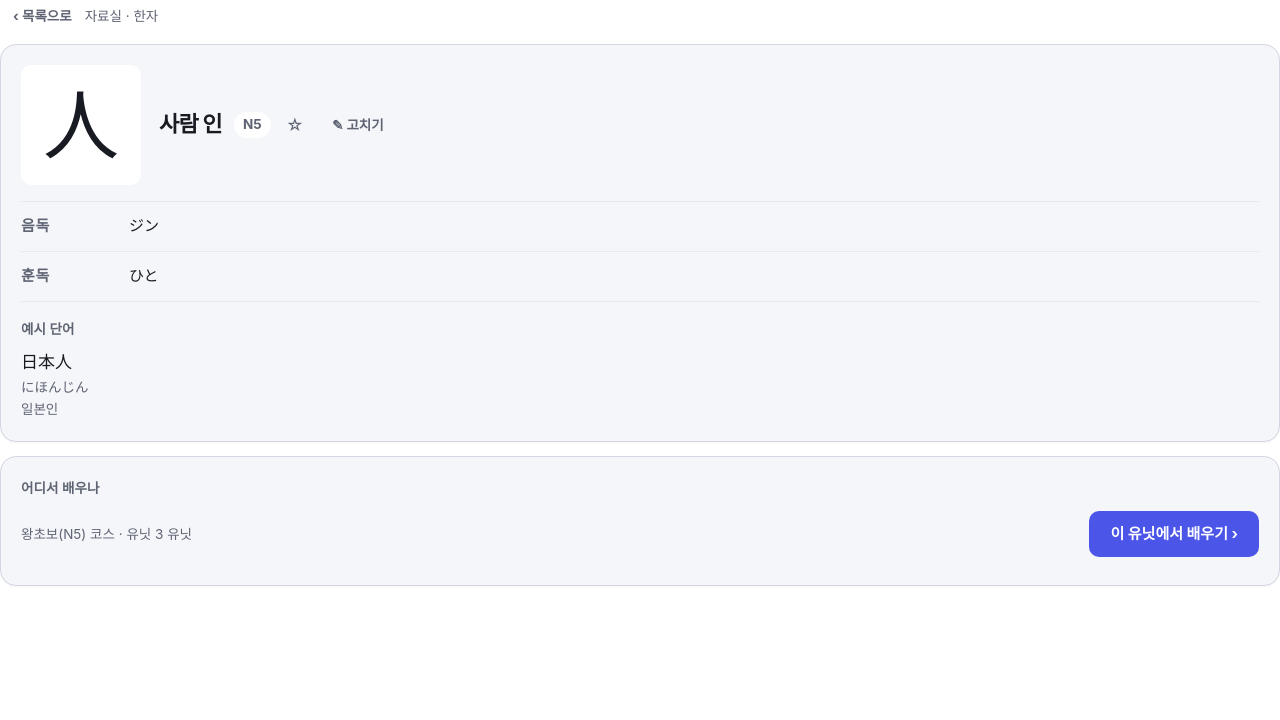
Test case: 자료실 한자 상세 배선 (A1·A9) › 켜져 있으면 [고치기]가 있고, 저장하면 화면 값이 응답으로 갱신된다
Click the button "✎ 고치기": (358, 125) [319,109,397,141]
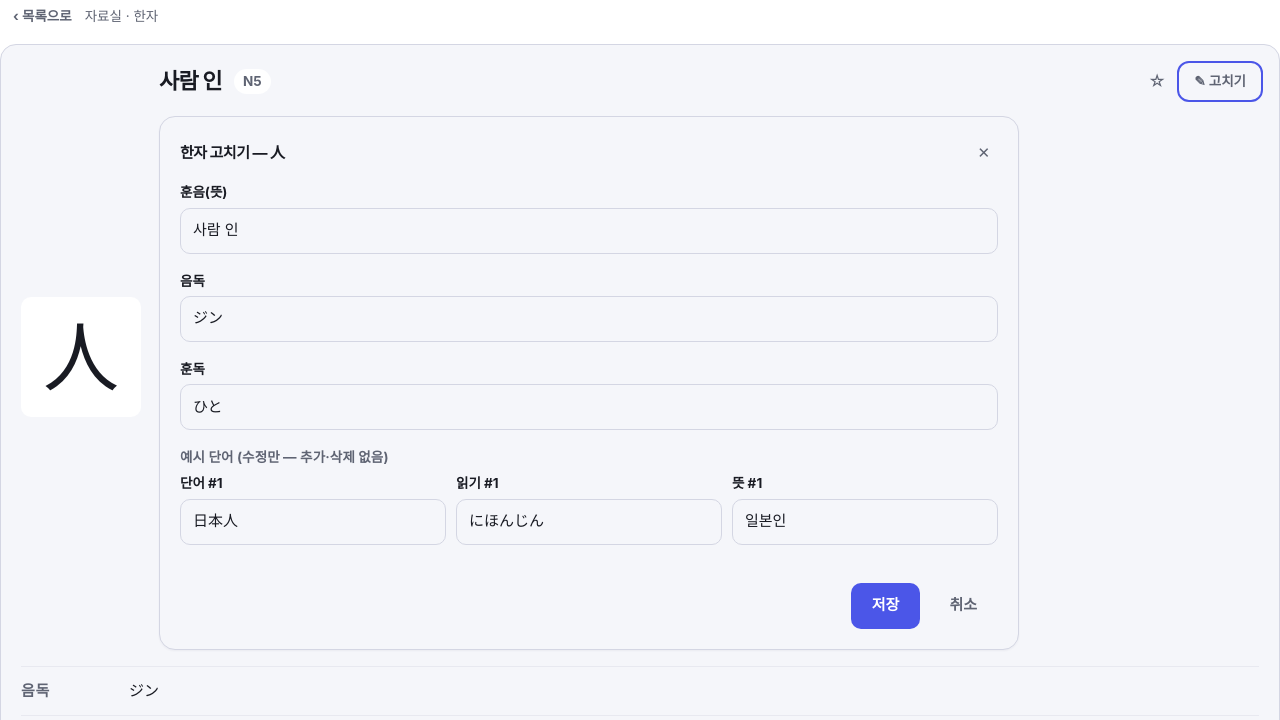
Replace the text in the field labelled "훈음(뜻)" with "사람 인2": (589, 230) [180,208,998,254]
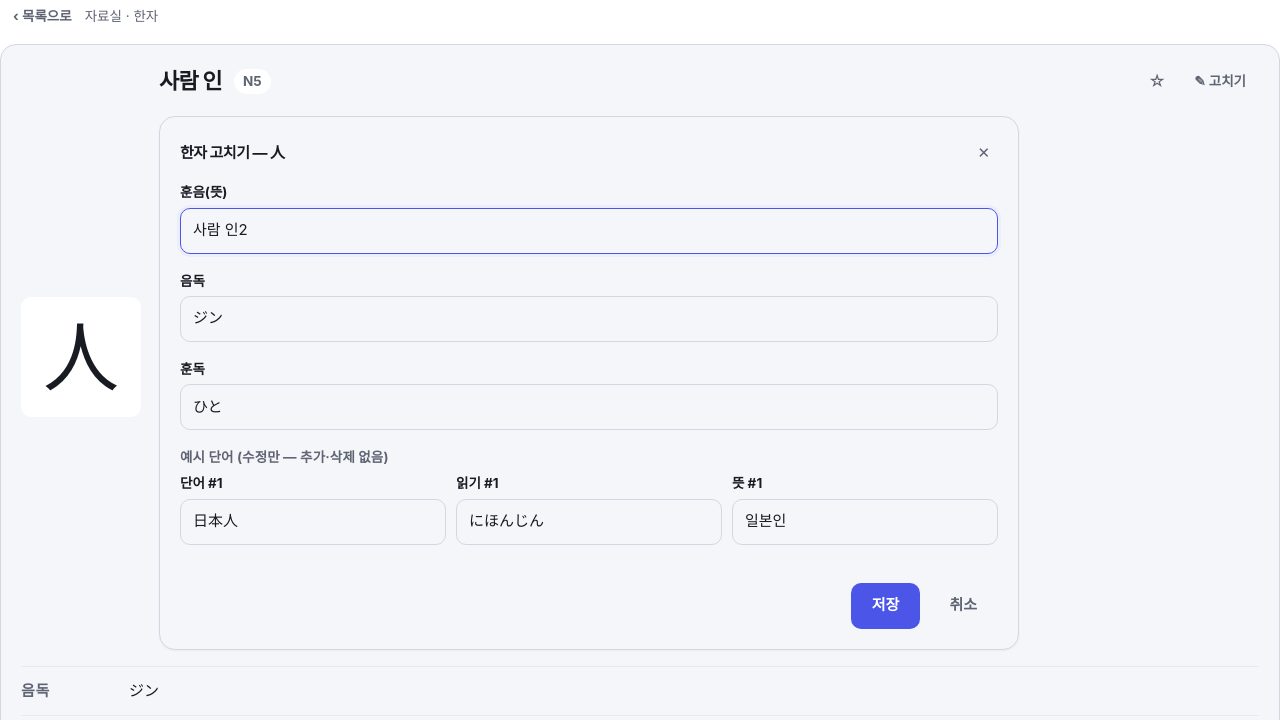
Click the button "저장": (886, 606) [851,583,920,629]
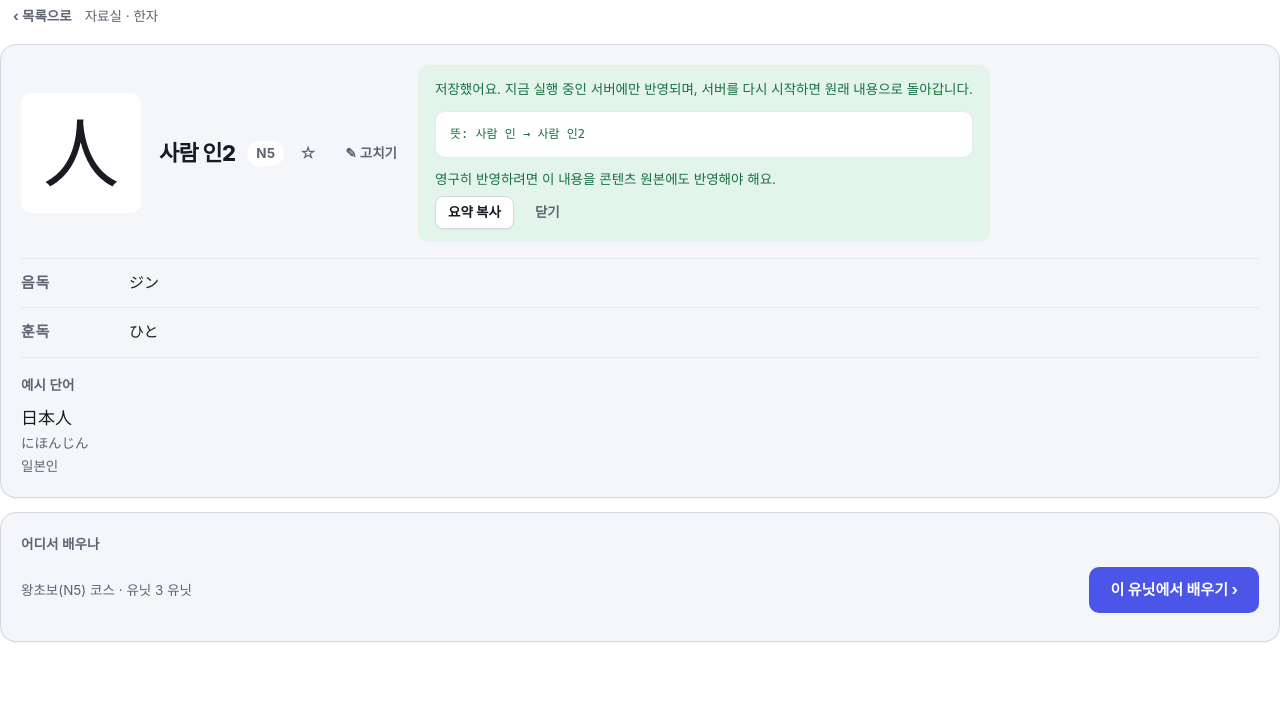
Expected: the heading "사람 인2" is shown, [159,139,235,168]
